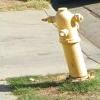a fire hydrant: (45, 3, 89, 76)
